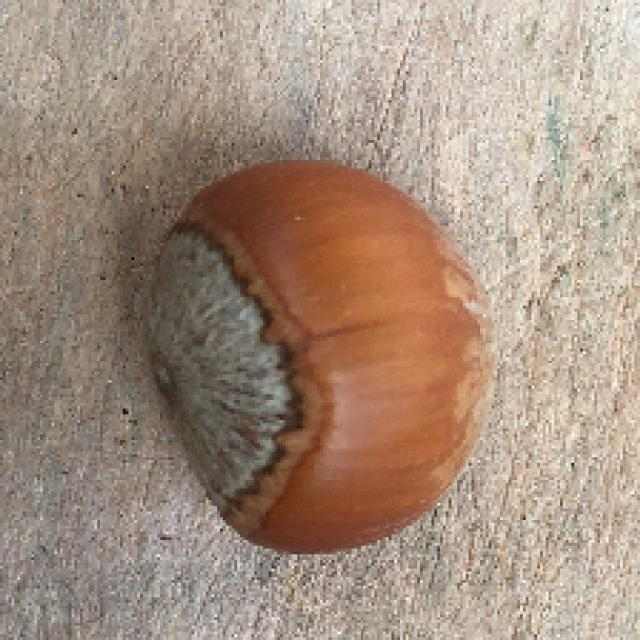QualityHazelnut: (145, 159, 503, 566)
